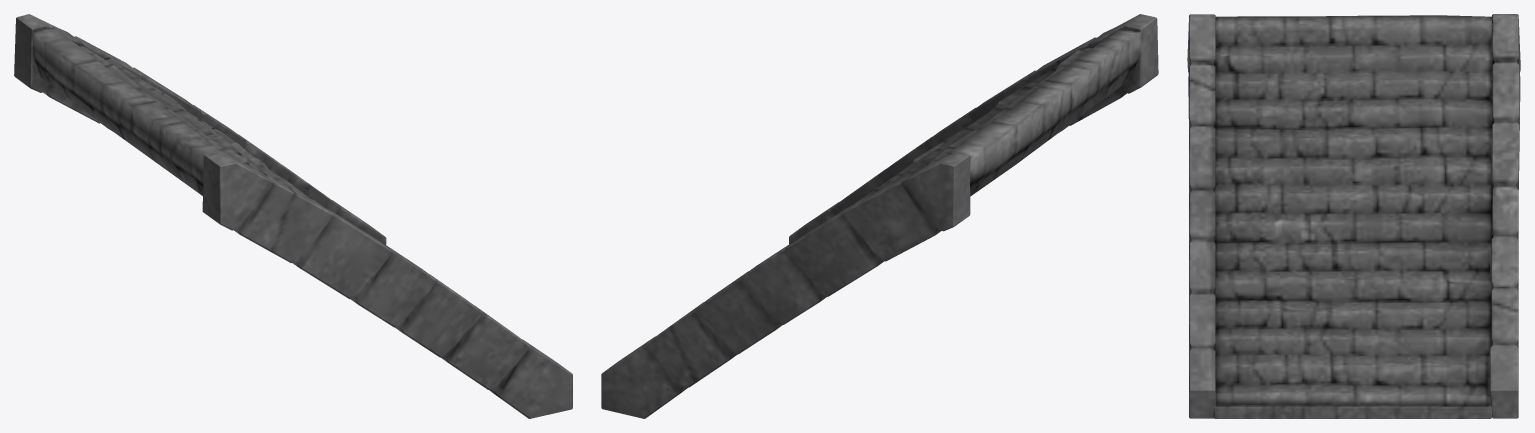
The model's file is SM_Stair_Stone_dfb3a2.glb.
The picture shows the model from 3 angles, left to right: view 1: azimuth 30°, elevation 25°; view 2: azimuth 150°, elevation 25°; view 3: azimuth 270°, elevation 25°; orthographic projection. The views are drawn at different scales.
Size of the model in its own units: 4.05 by 3.57 by 4.05.
1 material, 1 textured.
